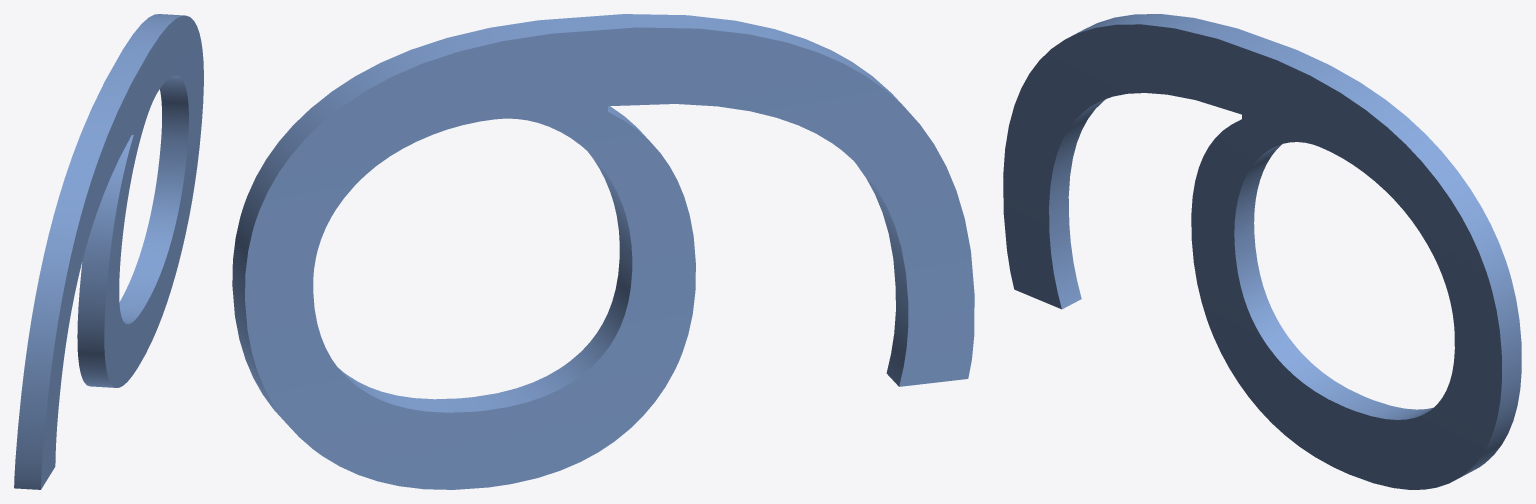
The model's file is New_Number_6.gltf.
3 views of the same model, side by side, from view 1: azimuth 30°, elevation 25°; view 2: azimuth 150°, elevation 25°; view 3: azimuth 270°, elevation 25° (orthographic). The views are drawn at different scales.
Parts seen in each view (by area): view 1: Part 348; view 2: Part 348; view 3: Part 348.
Boxes of the visible parts, x1,y1,x2,y2 form: Part 348: (14,14,203,489); Part 348: (232,14,974,489); Part 348: (1003,14,1521,489).
Size of the model in its own units: 0.00425 by 0.00358 by 0.00418.
